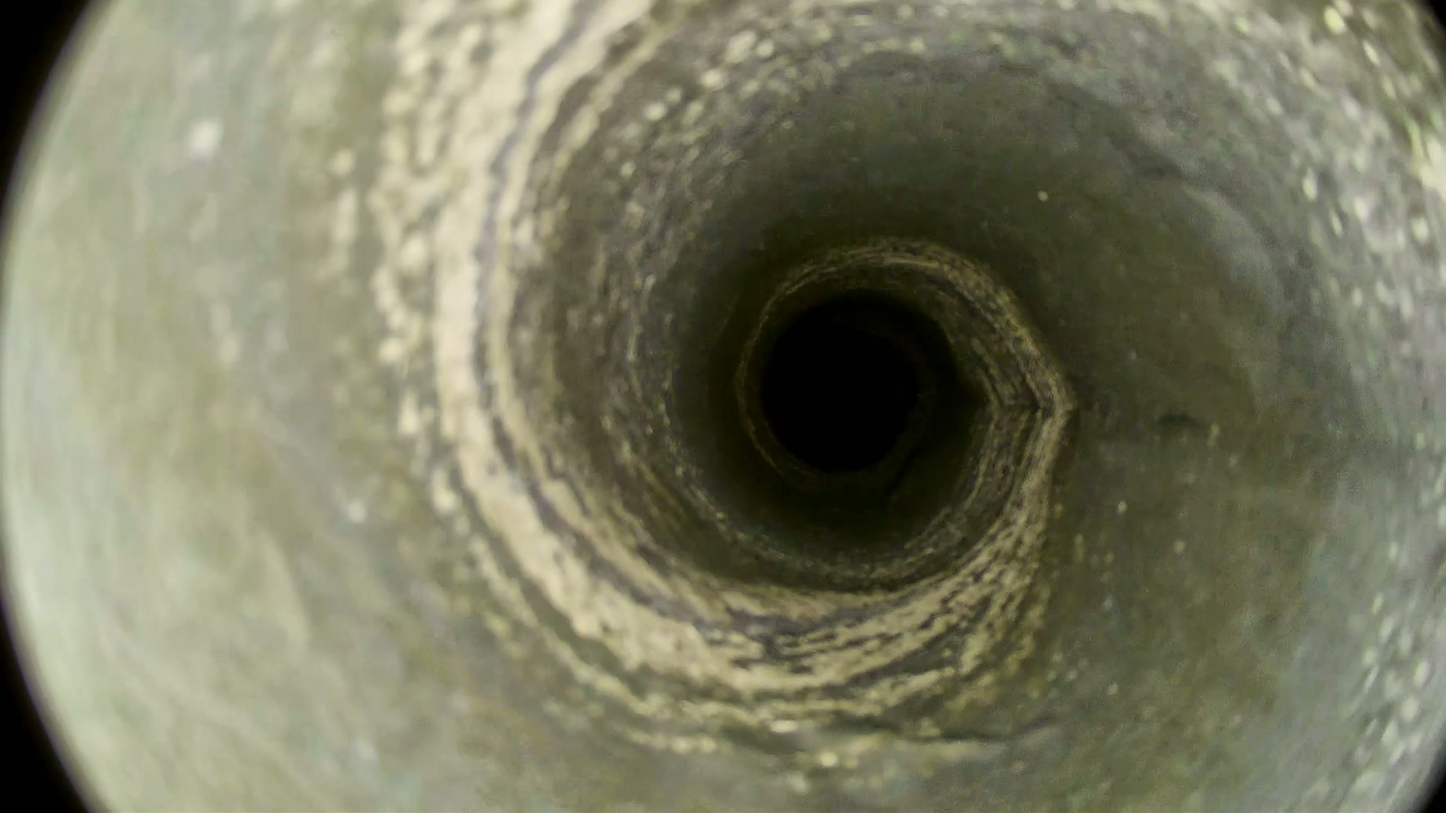hole: (763, 323, 915, 470)
